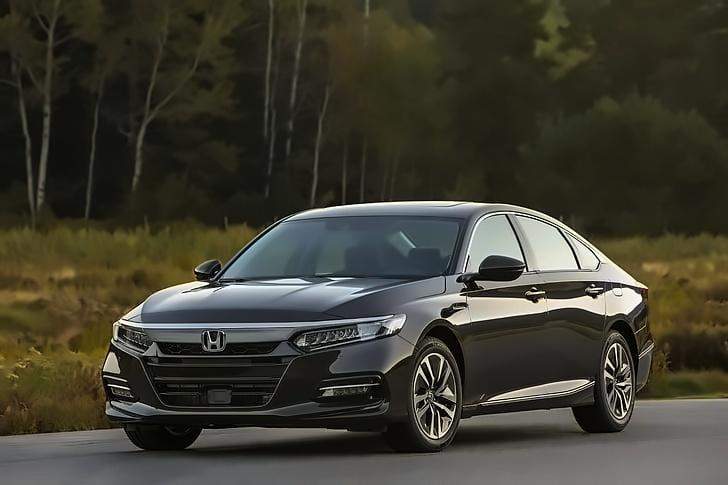Car hood: (117, 269, 448, 331)
Fender - -F-L-: (394, 266, 475, 416)
Fender - -R-L-: (591, 271, 646, 387)
Front bumper: (85, 337, 421, 435)
Headlight - -L-: (285, 308, 409, 356)
Headlight - -R-: (106, 316, 156, 358)
Passenger-s door - -F-L-: (469, 208, 549, 407)
Passenger-s door - -R-L-: (523, 209, 607, 401)
Rear bumper: (631, 323, 659, 394)
Rear light - -L-: (628, 275, 653, 310)
Side bumper - -L-: (454, 374, 600, 422)
Side mirror - -L-: (455, 249, 527, 294)
Side mirror - -R-: (190, 253, 232, 289)
